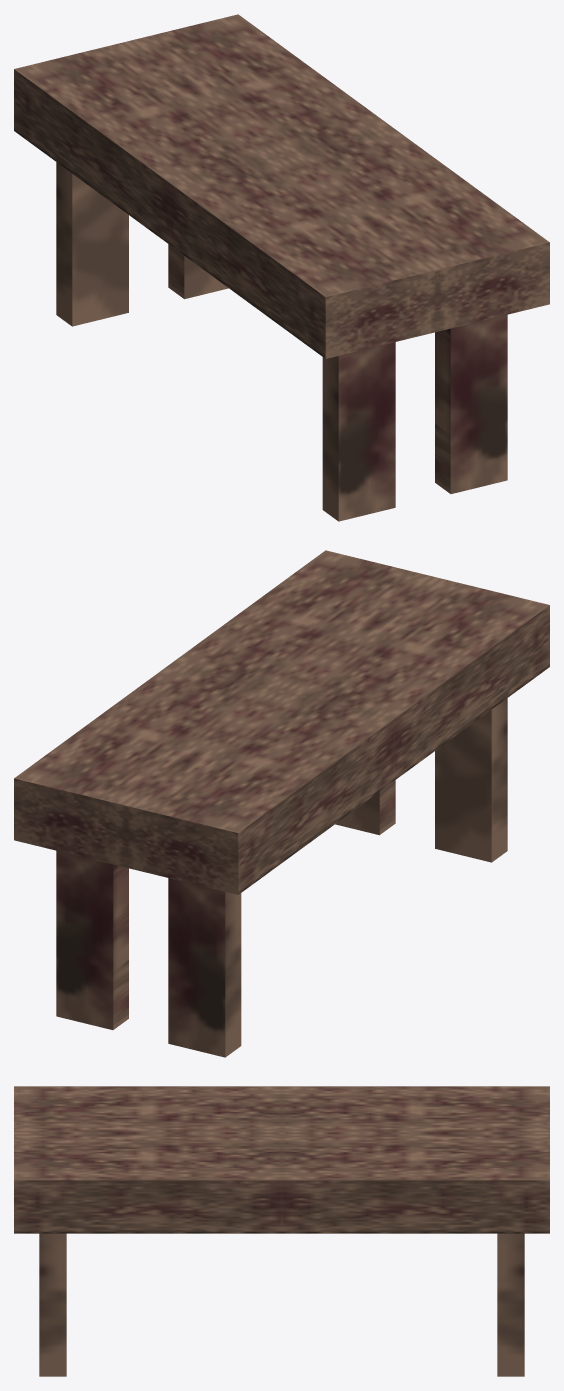
Rendered from Bench.fbx.
3 renders of one model, top to bottom at view 1: azimuth 30°, elevation 25°; view 2: azimuth 150°, elevation 25°; view 3: azimuth 270°, elevation 25°, orthographic. The views are drawn at different scales.
Parts seen in each view (by area): view 1: Cube; view 2: Cube; view 3: Cube.
Part boxes in pixels (bbox=[...]): Cube: bbox=[14, 14, 549, 521]; Cube: bbox=[14, 550, 549, 1057]; Cube: bbox=[14, 1086, 549, 1376].
Bounding box in the file's own units: 199 × 205 × 479.
Materials: 1 (1 with a texture image).
